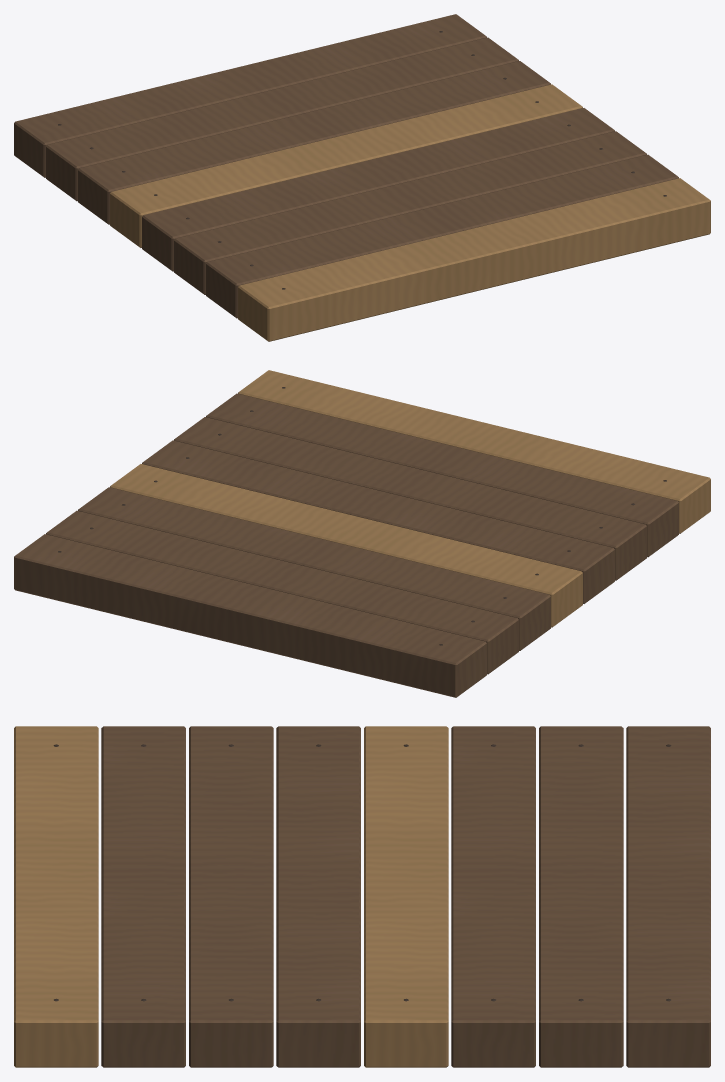
File: AR_Floor_Plank_2m.glb
3 views of the same model, one above another, from view 1: azimuth 30°, elevation 25°; view 2: azimuth 150°, elevation 25°; view 3: azimuth 270°, elevation 25° (orthographic). The views are drawn at different scales.
Visible parts, largest first — view 1: AR_Floor_Plank_2m; view 2: AR_Floor_Plank_2m; view 3: AR_Floor_Plank_2m.
Boxes of the visible parts, x1,y1,x2,y2 form: AR_Floor_Plank_2m: (14, 14, 710, 341); AR_Floor_Plank_2m: (14, 370, 710, 697); AR_Floor_Plank_2m: (14, 726, 710, 1067).
Bounding box in the file's own units: 2 × 0.153 × 1.99.
3 materials, 3 textured.
